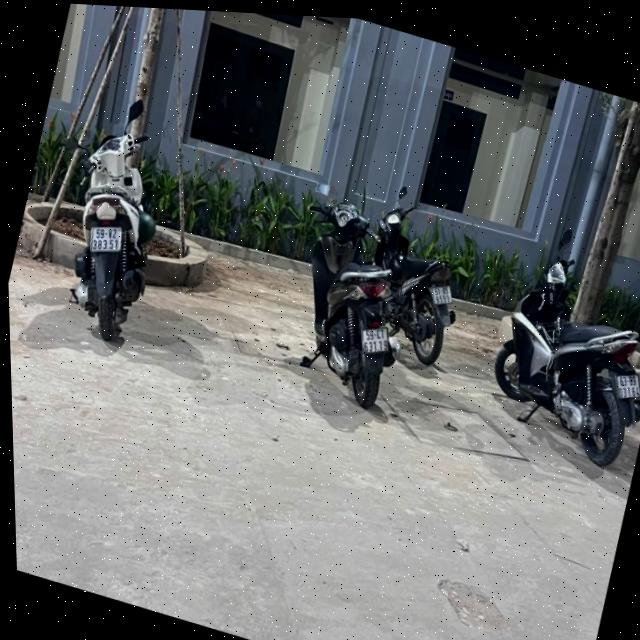motorcycle: (25, 77, 200, 356), (469, 235, 640, 475), (267, 180, 437, 418), (341, 183, 488, 376)
plate: (80, 213, 132, 261), (352, 317, 399, 363), (608, 362, 640, 406), (426, 279, 456, 309)
